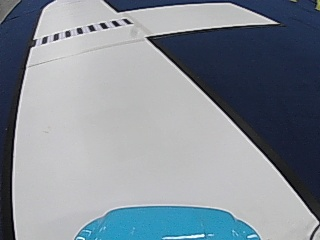CrossWalk: (36, 17, 128, 43)
